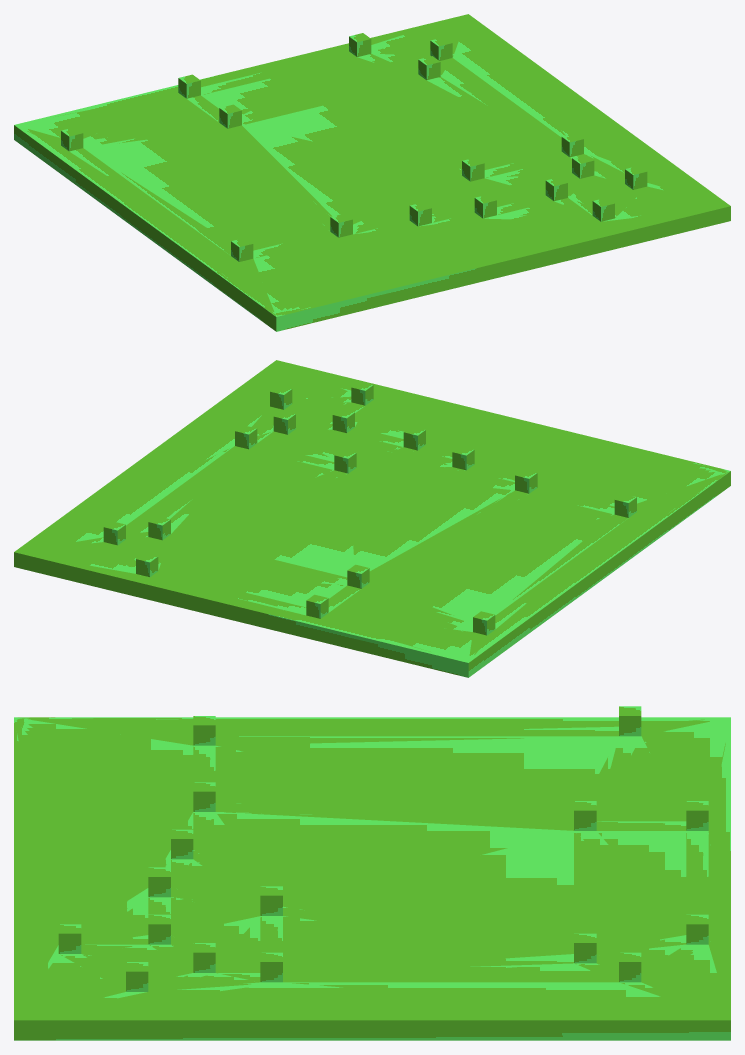
Rendered from env_grass1d.dae.
The picture shows the model from 3 angles, top to bottom: view 1: azimuth 30°, elevation 25°; view 2: azimuth 150°, elevation 25°; view 3: azimuth 270°, elevation 25°; orthographic projection. The views are drawn at different scales.
Visible parts, largest first — view 1: env_grass1d; view 2: env_grass1d; view 3: env_grass1d.
Part boxes in pixels (bbox=[...]): env_grass1d: bbox=[14, 14, 730, 331]; env_grass1d: bbox=[14, 360, 730, 677]; env_grass1d: bbox=[14, 706, 730, 1040].
Size of the model in its own units: 3.2 by 3.2 by 0.2.
